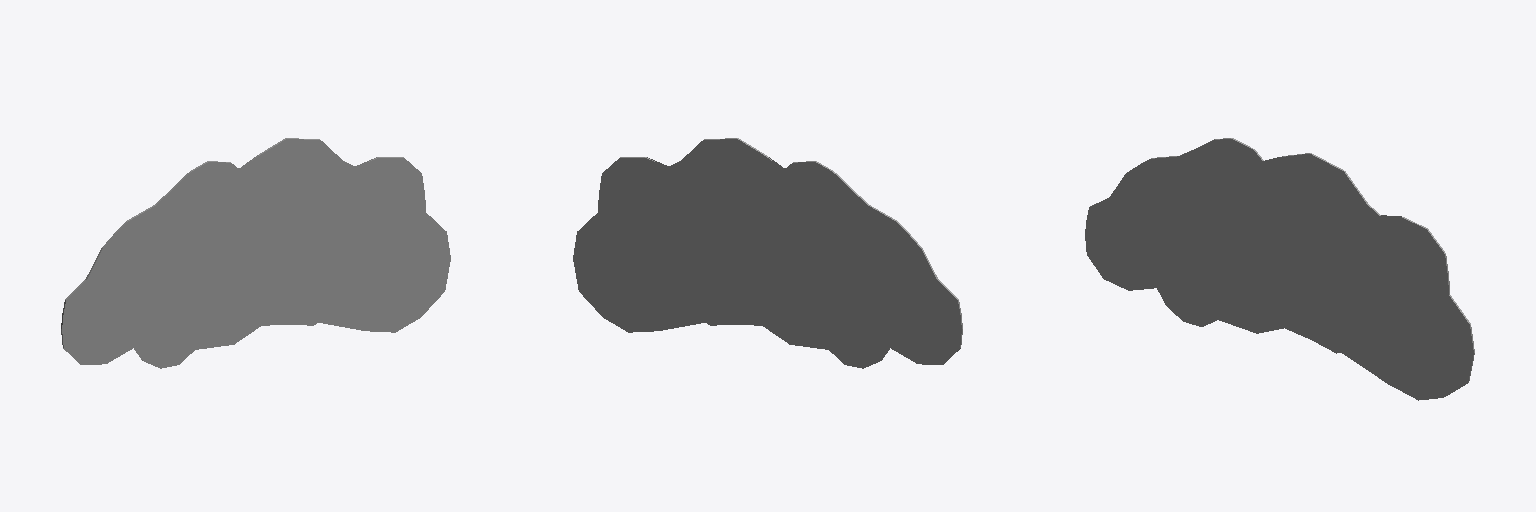
File: Divider.obj
3 views of the same model, side by side, from view 1: azimuth 30°, elevation 25°; view 2: azimuth 150°, elevation 25°; view 3: azimuth 330°, elevation 25° (orthographic).
Visible parts, largest first — view 1: Icosphere.017_Icosphere.000; view 2: Icosphere.017_Icosphere.000; view 3: Icosphere.017_Icosphere.000.
Boxes of the visible parts, box(x1,y1,x2,y2) form: Icosphere.017_Icosphere.000: box(61, 138, 450, 368); Icosphere.017_Icosphere.000: box(573, 138, 962, 368); Icosphere.017_Icosphere.000: box(1085, 138, 1474, 400).
Size of the model in its own units: 8.36 by 4.53 by 0.0428.